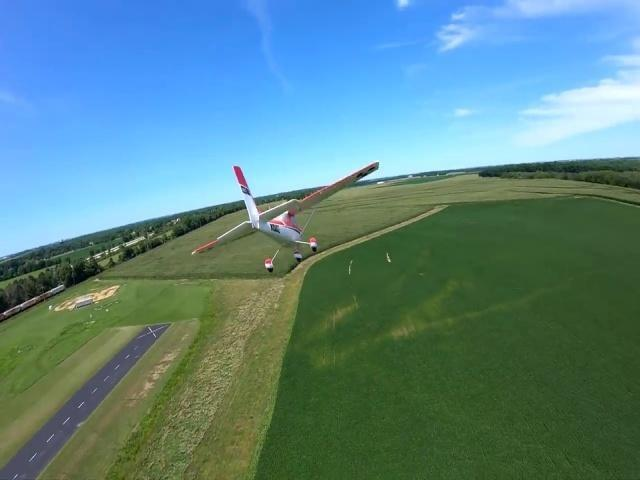Airplane: (190, 160, 379, 273)
